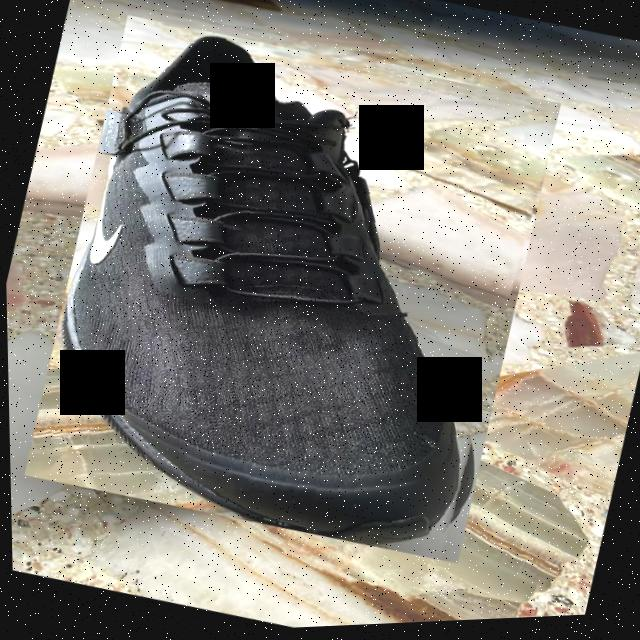shoe: (14, 1, 568, 582)
